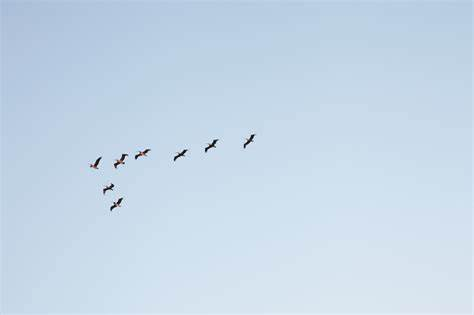bird: (85, 115, 266, 227), (107, 143, 132, 173), (199, 131, 222, 156)
